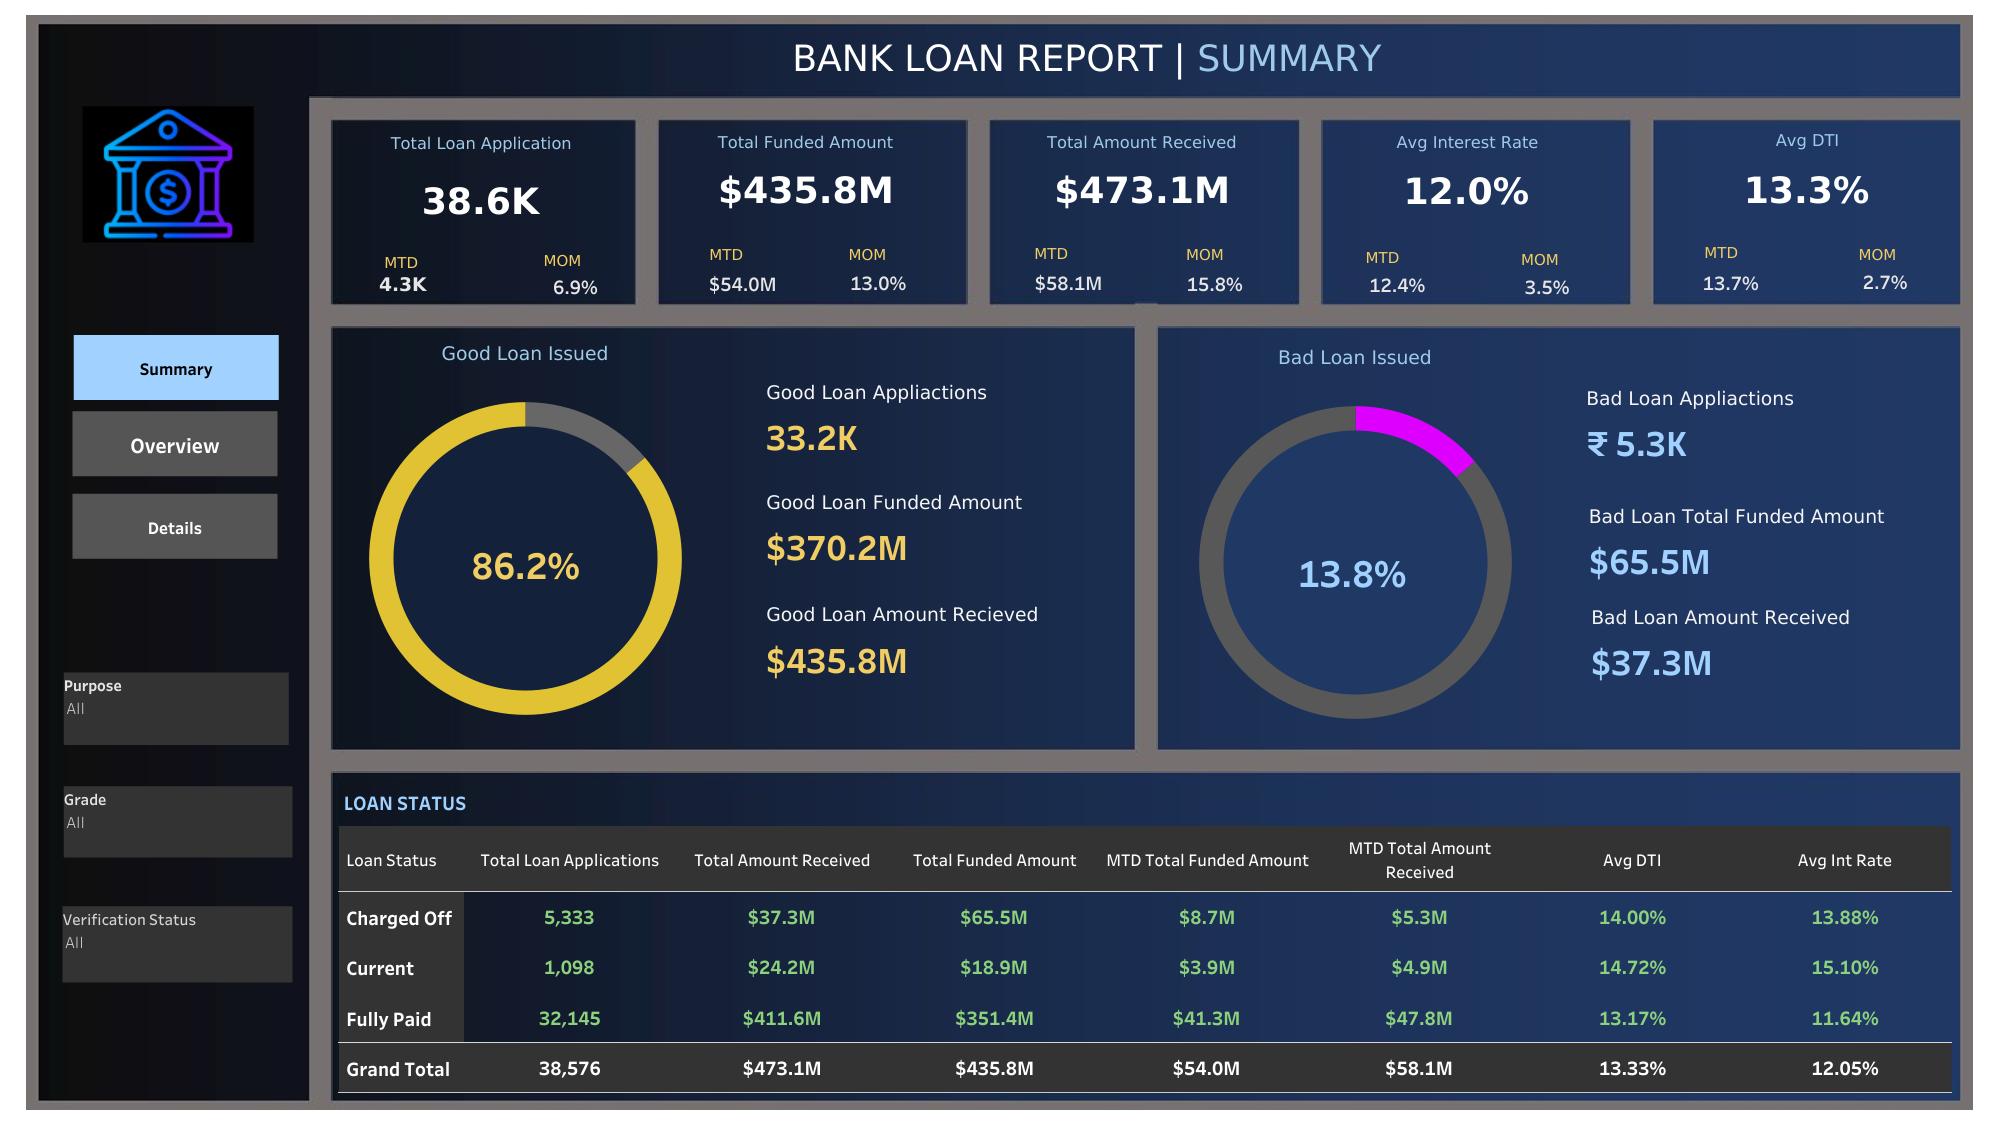

What the dashboard file says about the page in this screenshot:
{"tool":"tableau","page":{"name":"SUMMARY","canvas":[1600,900],"ordinal":2},"visuals":[{"type":"image","param":"Image/Tableau Background 1.jpg","box":[8,8,1584,884]},{"type":"text","box":[473,12,793,69]},{"type":"image","param":"Image/WhatsApp Image 2026-08-31 at 14.33.42.jpeg","box":[60,90,137,120]},{"type":"worksheet","title":"Avg DTI","mark":"Automatic","box":[1376,98,140,77]},{"type":"worksheet","title":"Total Funded Amount","mark":"Automatic","box":[554,99,181,75]},{"type":"worksheet","title":"Total Amount Received","mark":"Automatic","box":[750,99,327,74]},{"type":"worksheet","title":"Avg Interest Rate","mark":"Automatic","box":[1101,99,146,76]},{"type":"worksheet","title":"Total Loan Application","mark":"Automatic","box":[266,100,238,90]},{"type":"text","box":[1327,186,100,30]},{"type":"text","box":[791,187,100,30]},{"type":"text","box":[531,188,100,30]},{"type":"text","box":[644,188,100,30]},{"type":"text","box":[914,188,100,30]},{"type":"text","box":[1452,188,100,30]},{"type":"text","box":[1056,190,100,30]},{"type":"text","box":[1182,192,100,30]},{"type":"text","box":[400,193,100,30]},{"type":"text","box":[271,194,100,30]},{"type":"worksheet","title":"MOM Avg DTI","mark":"Automatic","box":[1463,195,90,60]},{"type":"worksheet","title":"MTD Avg DTI","mark":"Automatic","box":[1351,196,68,59]},{"type":"worksheet","title":"MTD Total Loan Applications","mark":"Automatic","box":[283,201,80,54]},{"type":"worksheet","title":"MTD Avg INT Rate ","mark":"Automatic","box":[1078,202,80,49]},{"type":"worksheet","title":"MOM Total Funded Amount","mark":"Automatic","box":[663,204,80,44]},{"type":"worksheet","title":"MOM Loan Application","mark":"Automatic","box":[422,205,60,48]},{"type":"worksheet","title":"MOM Total Amount Received","mark":"Automatic","box":[926,206,92,40]},{"type":"worksheet","title":"MTD Total Amount Received","mark":"Automatic","box":[817,207,78,38]},{"type":"worksheet","title":"MOM Avg Int Rate","mark":"Automatic","box":[1201,207,74,43]},{"type":"worksheet","title":"MTD Total Funded Amount ","mark":"Automatic","box":[539,209,111,35]},{"type":"worksheet","title":"Good Loan Issued","mark":"Pie","rows":["Calculation_1016262988161049","Calculation_1016262988161049"],"box":[270,268,300,325]},{"type":"dashboard-object","box":[59,270,164,52]},{"type":"worksheet","title":"Bad Loan Issued ","mark":"Pie","rows":["Calculation_1016262988161049","Calculation_1016262988161049"],"box":[934,271,300,325]},{"type":"worksheet","title":"Good Loan Appliactions","mark":"Automatic","box":[605,295,300,75]},{"type":"worksheet","title":"Bad Loan Appliactions","mark":"Automatic","box":[1261,300,300,75]},{"type":"dashboard-object","box":[58,330,164,52]},{"type":"worksheet","title":"Good Loan Funded Amount","mark":"Automatic","box":[605,383,300,75]},{"type":"dashboard-object","box":[58,390,164,52]},{"type":"worksheet","title":"Bad Loan %","mark":"Automatic","box":[1010,394,144,127]},{"type":"worksheet","title":"Bad Loan Total Funded Amount","mark":"Automatic","box":[1263,394,300,75]},{"type":"worksheet","title":"Good Loan Application %","mark":"Automatic","box":[355,406,131,90]},{"type":"worksheet","title":"Good Loan Amount Recieved","mark":"Automatic","box":[605,473,300,75]},{"type":"worksheet","title":"Bad Loan Amount Received","mark":"Automatic","box":[1265,475,300,75]},{"type":"filter","title":"Good Loan Issued","param":"[federated.01xzj6x0jyavo41ald2ko1xmwz8x].[none:purpose:nk]","box":[50,600,180,58]},{"type":"worksheet","title":"LOAN STATUS","mark":"Automatic","rows":["loan_status"],"box":[271,625,1291,250]},{"type":"filter","title":"Good Loan Issued","param":"[federated.01xzj6x0jyavo41ald2ko1xmwz8x].[none:grade:nk]","box":[50,700,183,57]},{"type":"filter","title":"Good Loan Issued","param":"[federated.01xzj6x0jyavo41ald2ko1xmwz8x].[none:verification_status:nk]","box":[50,800,184,61]}]}

Visuals, with their boxes in screenshot pixels (x1, y1, x2, y2), scaled from the page's 1600x900 canvas onto the 1999x1124 screenshot:
image: x1=10, y1=10, x2=1989, y2=1114
text: x1=591, y1=15, x2=1582, y2=101
image: x1=75, y1=112, x2=246, y2=262
"Avg DTI" worksheet: x1=1719, y1=122, x2=1894, y2=219
"Total Funded Amount" worksheet: x1=692, y1=124, x2=918, y2=217
"Total Amount Received" worksheet: x1=937, y1=124, x2=1346, y2=216
"Avg Interest Rate" worksheet: x1=1376, y1=124, x2=1558, y2=219
"Total Loan Application" worksheet: x1=332, y1=125, x2=630, y2=237
text: x1=1658, y1=232, x2=1783, y2=270
text: x1=988, y1=234, x2=1113, y2=271
text: x1=663, y1=235, x2=788, y2=272
text: x1=805, y1=235, x2=930, y2=272
text: x1=1142, y1=235, x2=1267, y2=272
text: x1=1814, y1=235, x2=1939, y2=272
text: x1=1319, y1=237, x2=1444, y2=275
text: x1=1477, y1=240, x2=1602, y2=277
text: x1=500, y1=241, x2=625, y2=279
text: x1=339, y1=242, x2=464, y2=280
"MOM Avg DTI" worksheet: x1=1828, y1=244, x2=1940, y2=318
"MTD Avg DTI" worksheet: x1=1688, y1=245, x2=1773, y2=318
"MTD Total Loan Applications" worksheet: x1=354, y1=251, x2=454, y2=318
"MTD Avg INT Rate " worksheet: x1=1347, y1=252, x2=1447, y2=313
"MOM Total Funded Amount" worksheet: x1=828, y1=255, x2=928, y2=310
"MOM Loan Application" worksheet: x1=527, y1=256, x2=602, y2=316
"MOM Total Amount Received" worksheet: x1=1157, y1=257, x2=1272, y2=307
"MTD Total Amount Received" worksheet: x1=1021, y1=259, x2=1118, y2=306
"MOM Avg Int Rate" worksheet: x1=1500, y1=259, x2=1593, y2=312
"MTD Total Funded Amount " worksheet: x1=673, y1=261, x2=812, y2=305
"Good Loan Issued" worksheet (Pie marks): x1=337, y1=335, x2=712, y2=741
dashboard-object: x1=74, y1=337, x2=279, y2=402
"Bad Loan Issued " worksheet (Pie marks): x1=1167, y1=338, x2=1542, y2=744
"Good Loan Appliactions" worksheet: x1=756, y1=368, x2=1131, y2=462
"Bad Loan Appliactions" worksheet: x1=1575, y1=375, x2=1950, y2=468
dashboard-object: x1=72, y1=412, x2=277, y2=477
"Good Loan Funded Amount" worksheet: x1=756, y1=478, x2=1131, y2=572
dashboard-object: x1=72, y1=487, x2=277, y2=552
"Bad Loan %" worksheet: x1=1262, y1=492, x2=1442, y2=651
"Bad Loan Total Funded Amount" worksheet: x1=1578, y1=492, x2=1953, y2=586
"Good Loan Application %" worksheet: x1=444, y1=507, x2=607, y2=619
"Good Loan Amount Recieved" worksheet: x1=756, y1=591, x2=1131, y2=684
"Bad Loan Amount Received" worksheet: x1=1580, y1=593, x2=1955, y2=687
"Good Loan Issued" filter: x1=62, y1=749, x2=287, y2=822
"LOAN STATUS" worksheet: x1=339, y1=781, x2=1952, y2=1093
"Good Loan Issued" filter: x1=62, y1=874, x2=291, y2=945
"Good Loan Issued" filter: x1=62, y1=999, x2=292, y2=1075
